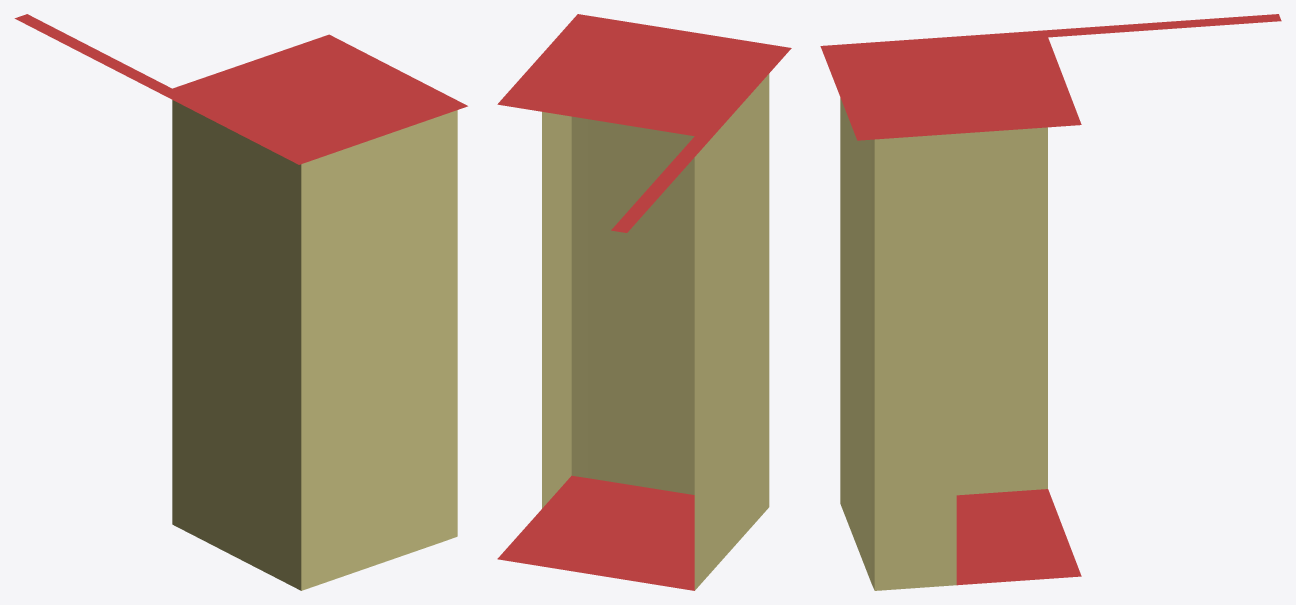
The picture shows the model from 3 angles, left to right: view 1: azimuth 30°, elevation 25°; view 2: azimuth 150°, elevation 25°; view 3: azimuth 270°, elevation 25°; orthographic projection. The views are drawn at different scales.
Size of the model in its own units: 4.33 by 6.66 by 7.19.
